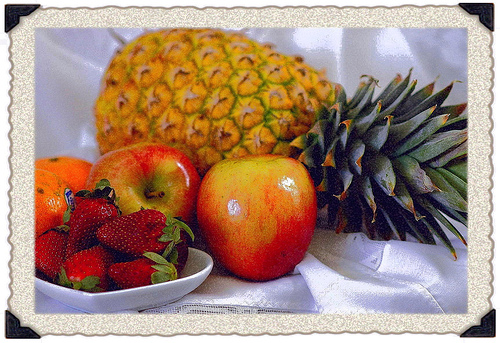pineapple: (93, 27, 470, 259)
